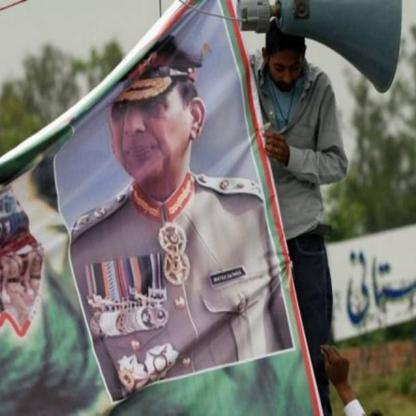face: (111, 86, 190, 186), (271, 44, 305, 92)
